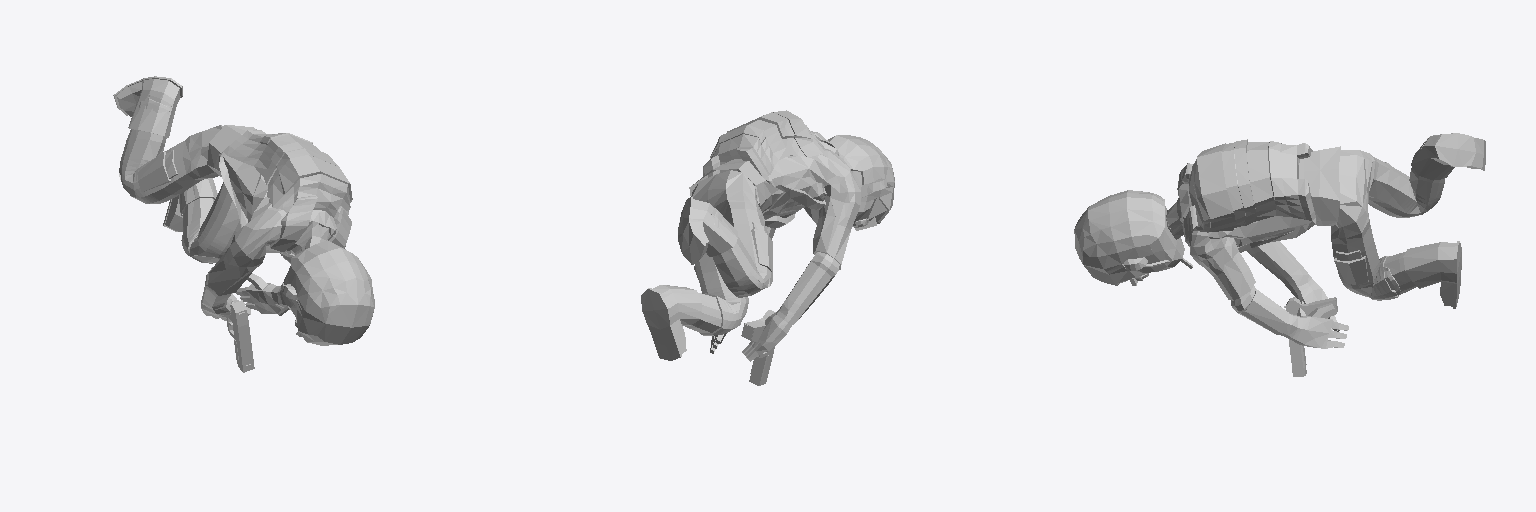
The model's file is frame_0058.obj.
3 renders of one model, left to right at view 1: azimuth 30°, elevation 25°; view 2: azimuth 150°, elevation 25°; view 3: azimuth 270°, elevation 25°, orthographic.
Visible parts, largest first — view 1: Body, Gun; view 2: Body, Gun; view 3: Body, Gun.
Part boxes in pixels (left/top/right/bottom): Body: left=113, top=76, right=374, bottom=345; Gun: left=227, top=293, right=254, bottom=372; Body: left=641, top=110, right=894, bottom=361; Gun: left=741, top=310, right=775, bottom=385; Body: left=1074, top=133, right=1485, bottom=348; Gun: left=1284, top=297, right=1337, bottom=376.
Size of the model in its own units: 1.28 by 2.29 by 3.53.